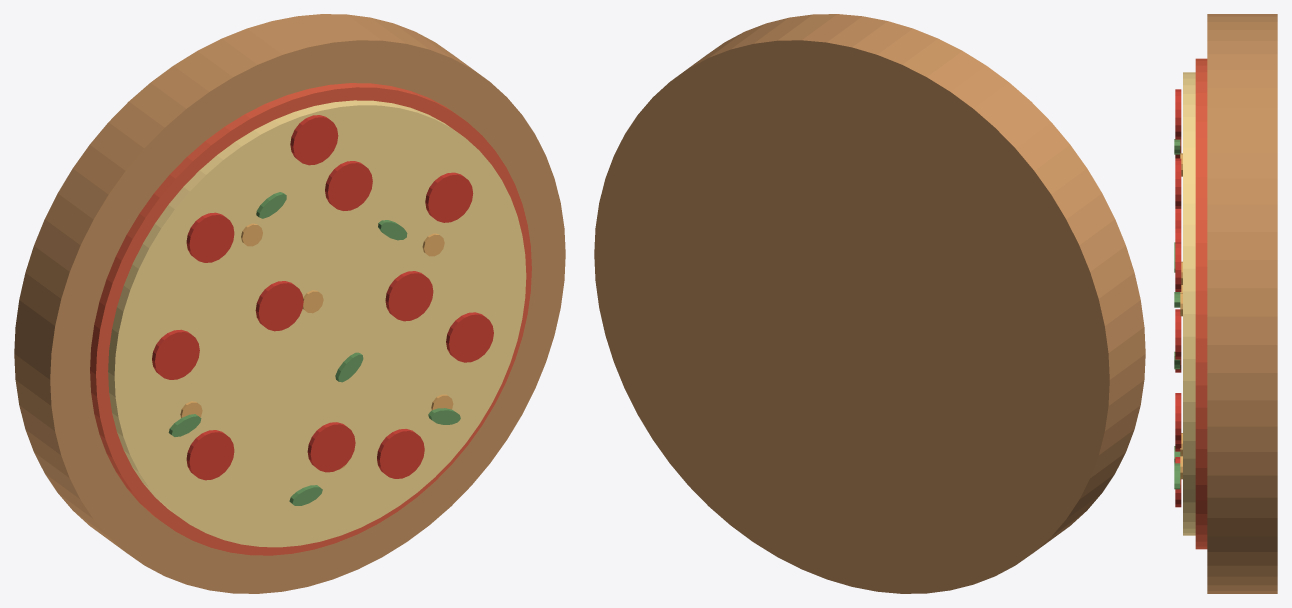
The model's file is pizza.glb.
The picture shows the model from 3 angles, left to right: view 1: azimuth 30°, elevation 25°; view 2: azimuth 150°, elevation 25°; view 3: azimuth 270°, elevation 25°; orthographic projection. The views are drawn at different scales.
Bounding box in the file's own units: 0.298 × 0.298 × 0.053.
